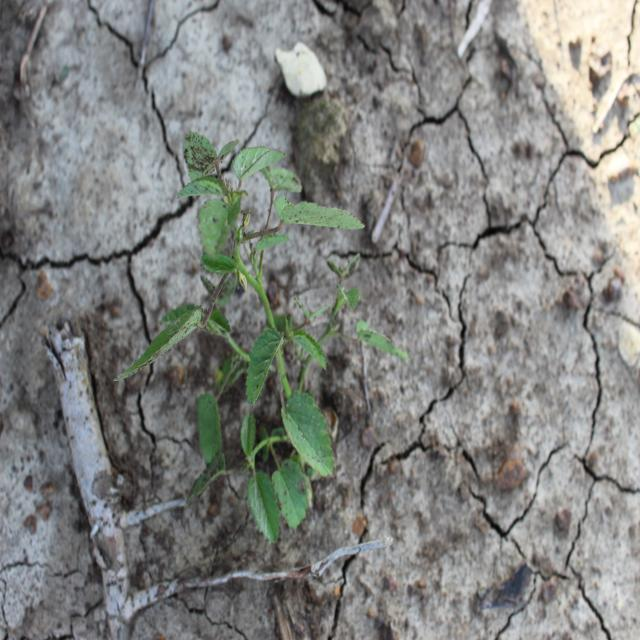PricklySida: (112, 128, 410, 545)
